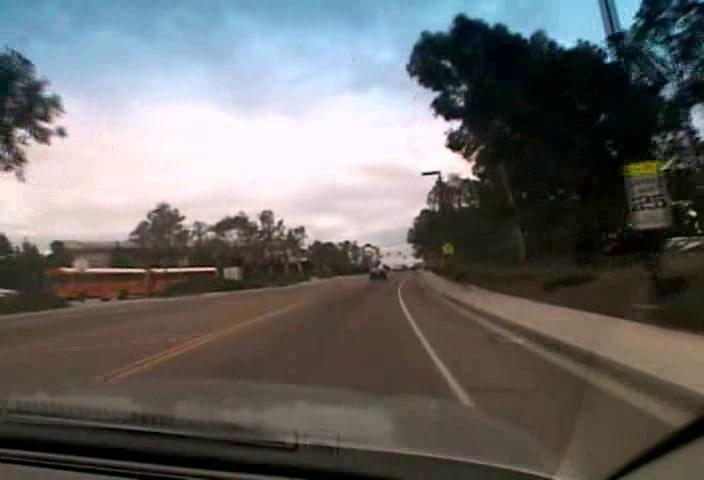schoolSpeedLimit25: (621, 160, 671, 230)
